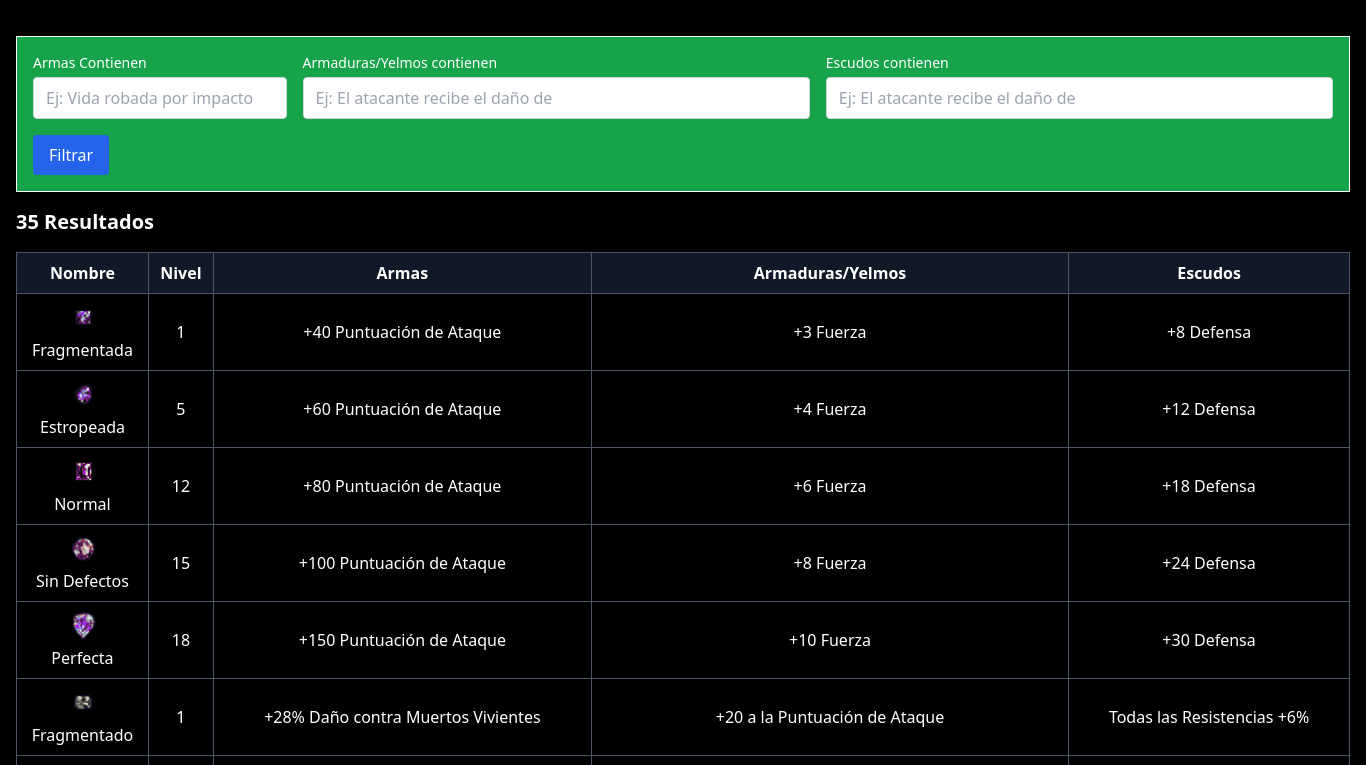
Scenario: Gems › shows the empty state when no gem matches the filters
Type "no existe este texto" into the field labelled "Armas Contienen" at (160, 98), box [33, 77, 287, 119]
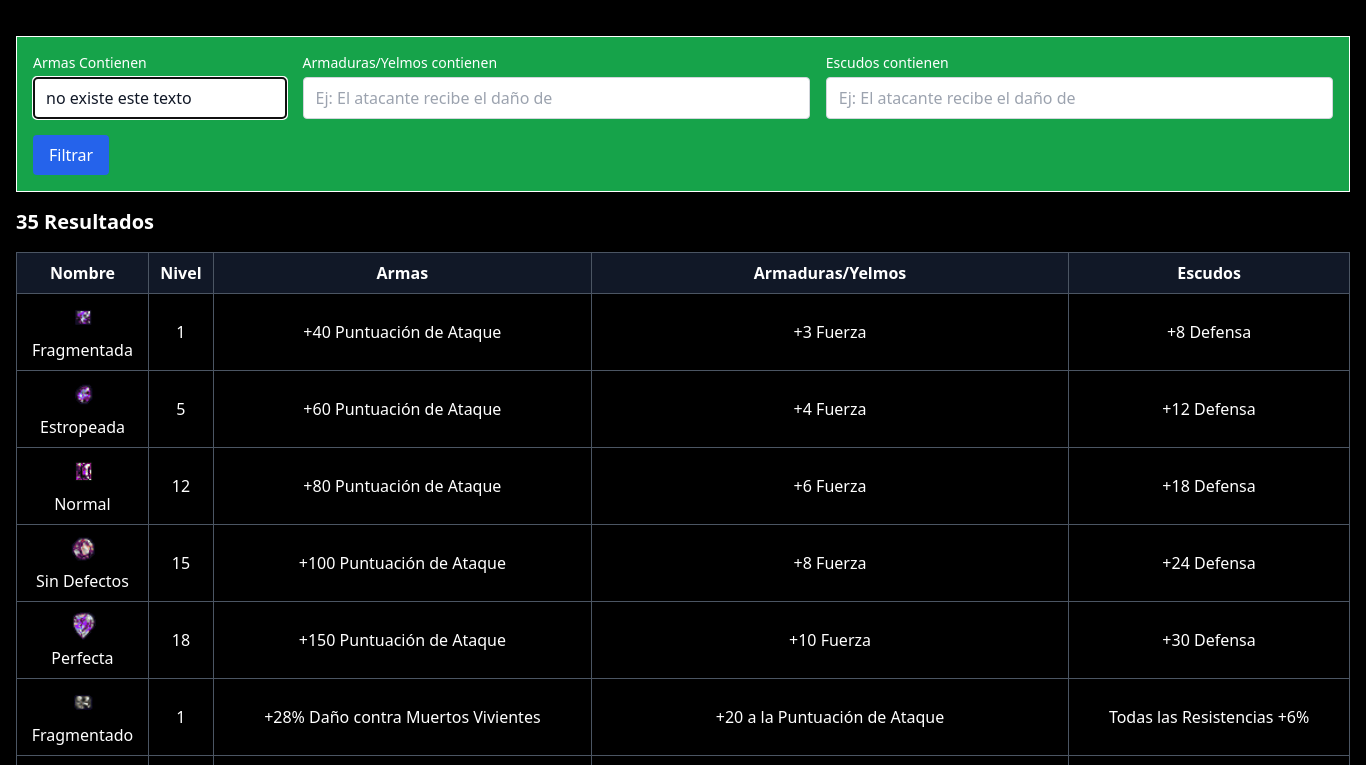
Click the button "Filtrar" at (71, 155), box [33, 135, 109, 175]
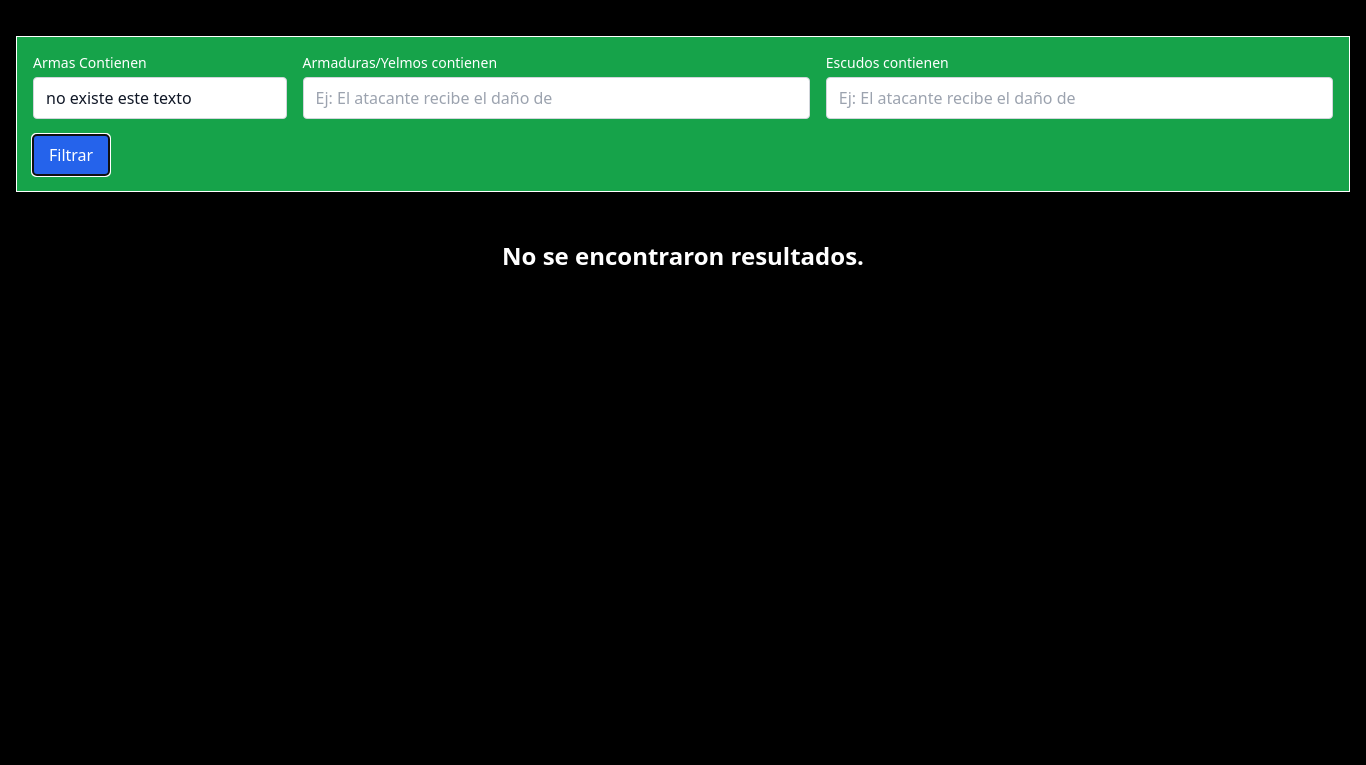
Now the heading "No se encontraron resultados." is shown, box [502, 239, 864, 272]
